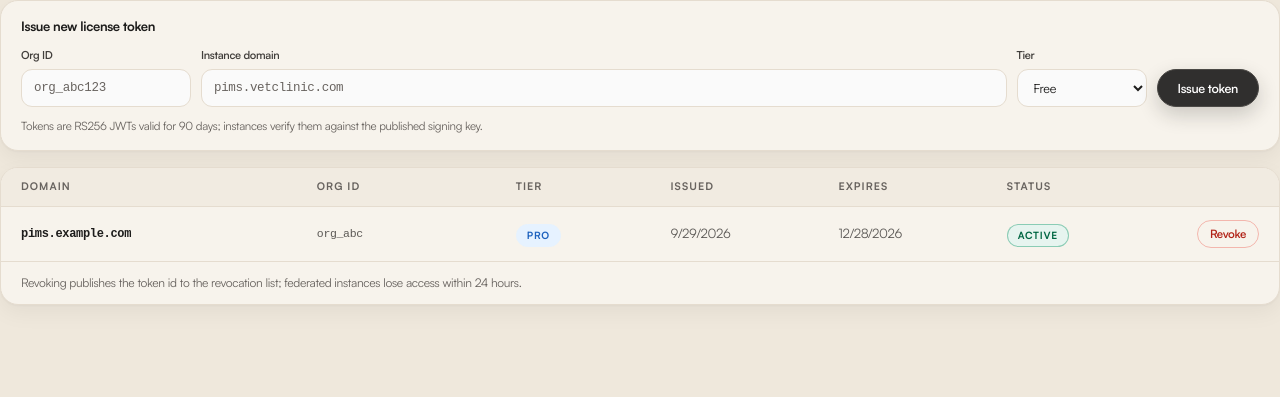
Test: InstancesTable › shows a retryable error when token revocation fails
The image size is (1280, 397).
Click the button "Revoke" at (1228, 234), box [1197, 220, 1259, 248]
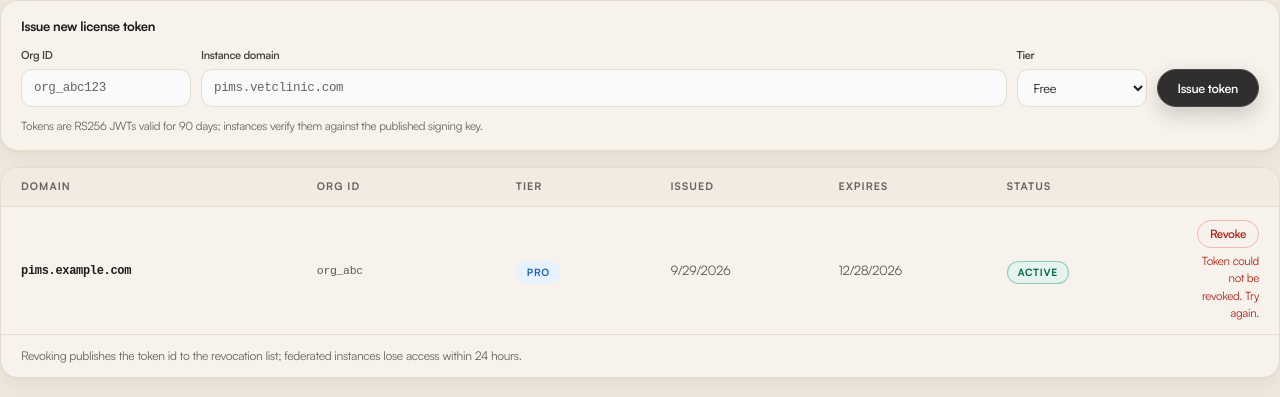
Expected: the message shows "Token could not be revoked", [1202, 253, 1259, 320]
Click the button "Revoke" at (1228, 234), box [1197, 220, 1259, 248]
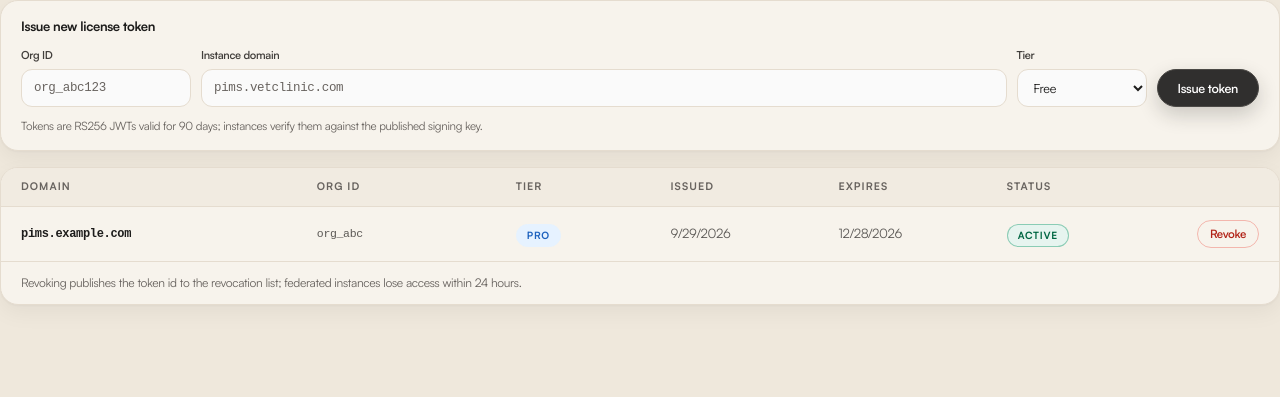
Expected: the message "Token could not be revoked. Try again." is gone
